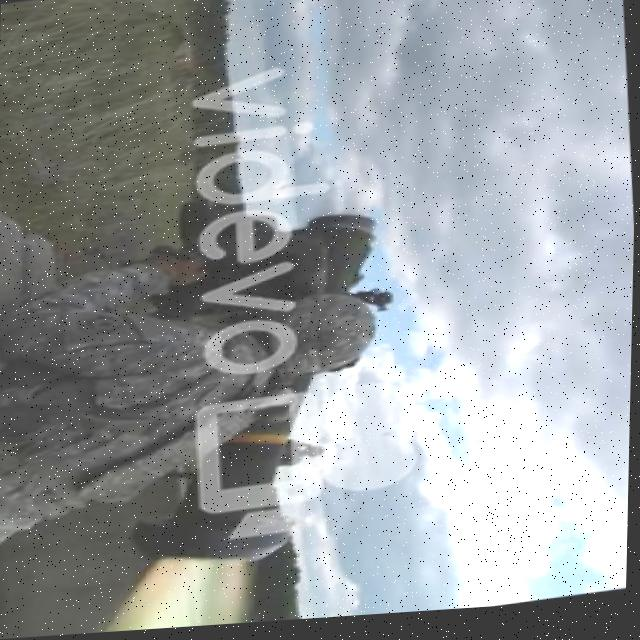rocket: (127, 213, 399, 577)
